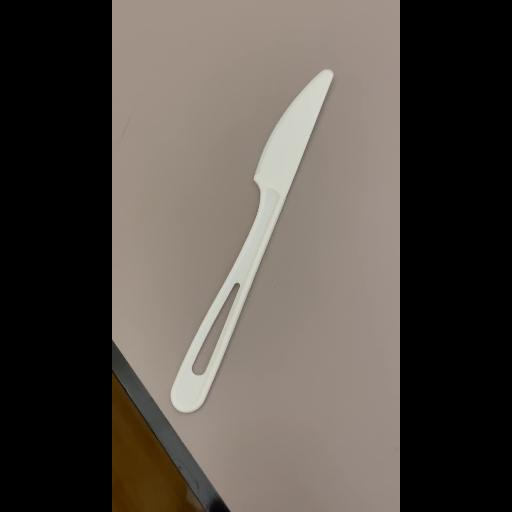utensil: (154, 62, 372, 416)
